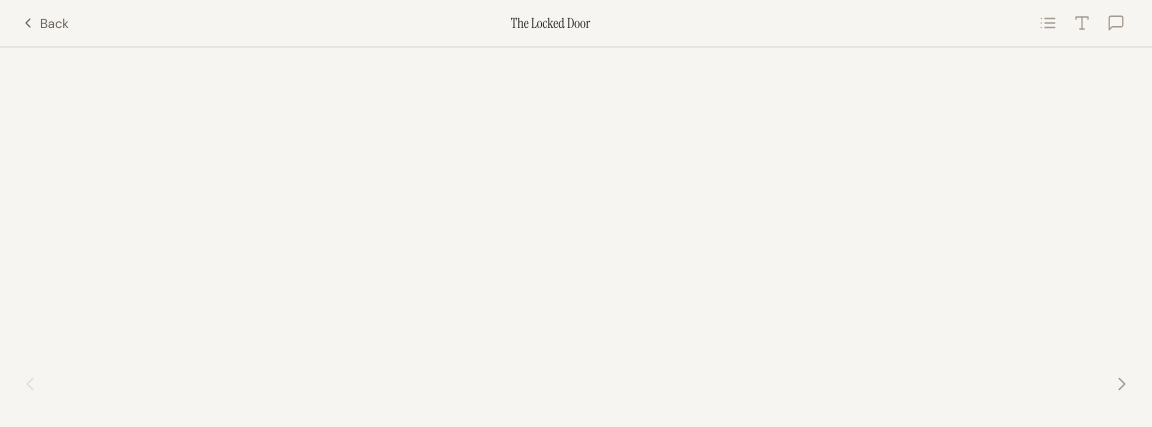
Test: ReaderScreen › shows how many pages in the reader is
Click the button named "Next page".
click(1122, 384)  # box [1100, 362, 1144, 406]
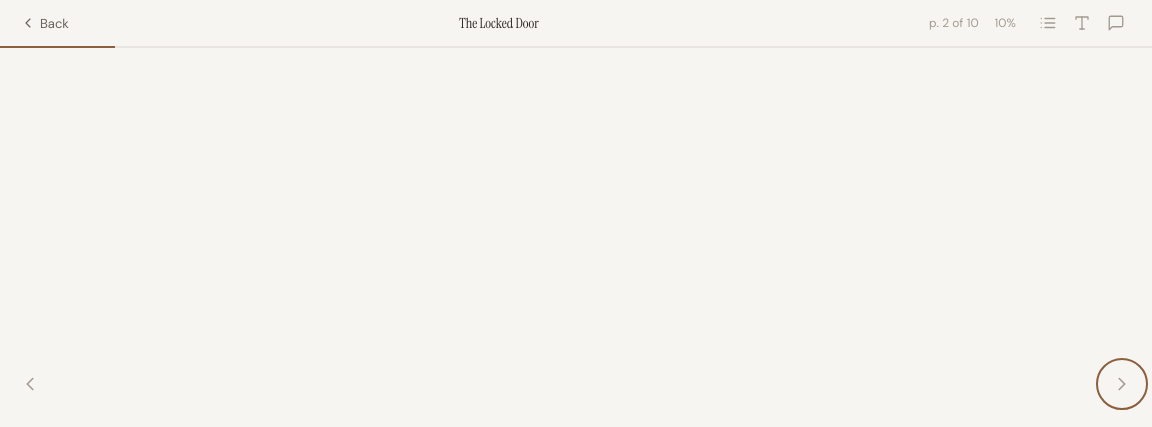
expect the text "p. 2 of 10" is shown: met, box [929, 15, 979, 31]
